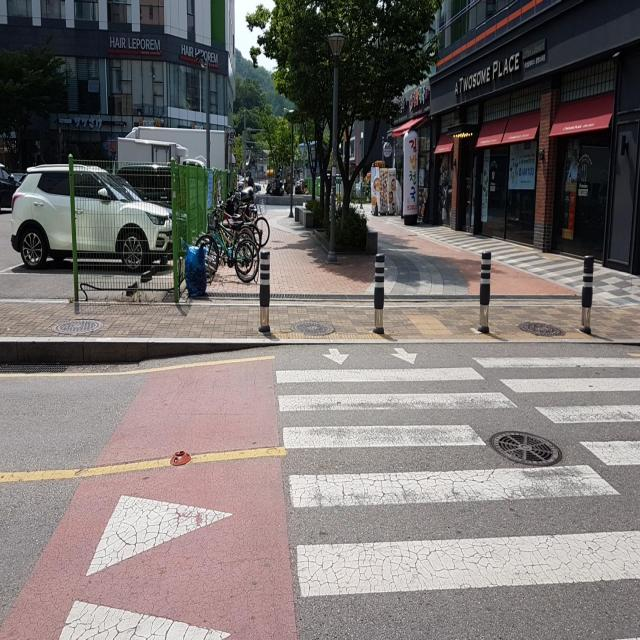횡단보도: (272, 340, 640, 600)
